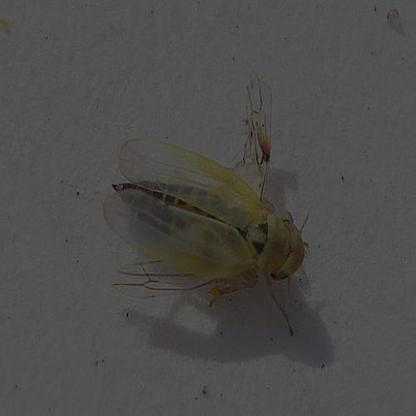green-leafhopper: (100, 134, 310, 304)
